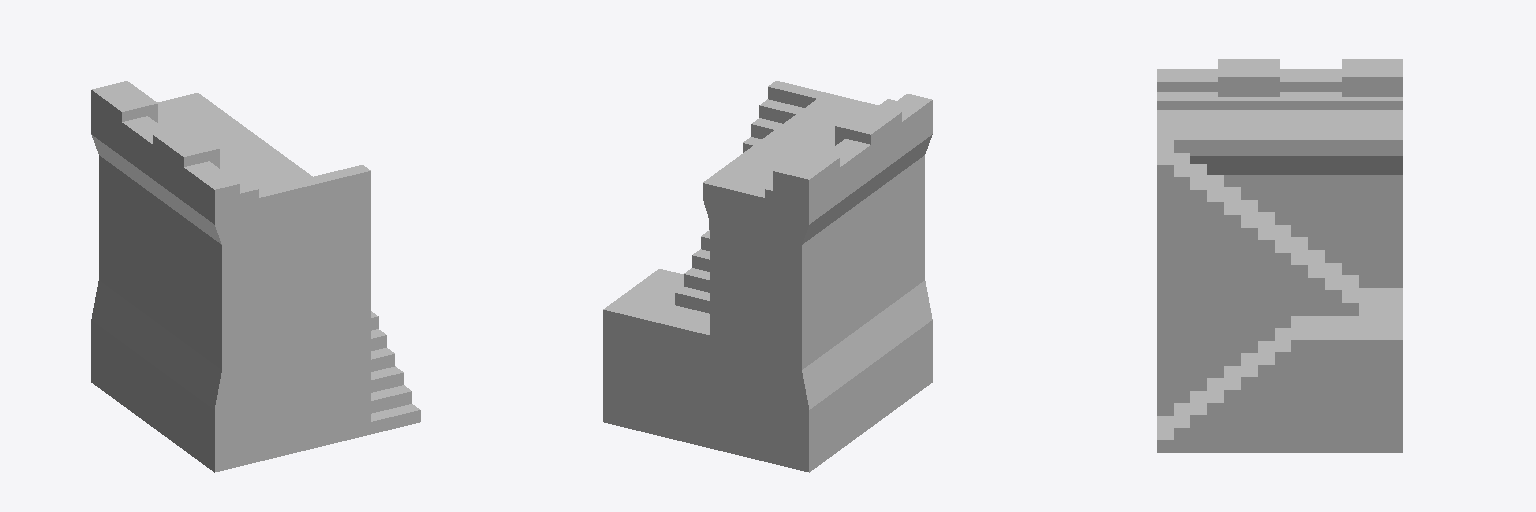
The model's file is wallNarrowStairs.obj.
3 renders of one model, left to right at view 1: azimuth 30°, elevation 25°; view 2: azimuth 150°, elevation 25°; view 3: azimuth 270°, elevation 25°, orthographic.
Visible parts, largest first — view 1: wallNarrowStairs; view 2: wallNarrowStairs; view 3: wallNarrowStairs.
Boxes of the visible parts, x1,y1,x2,y2 form: wallNarrowStairs: [91, 81, 420, 472]; wallNarrowStairs: [603, 81, 932, 472]; wallNarrowStairs: [1157, 59, 1402, 452].
Size of the model in its own units: 9.65 by 13.1 by 10.